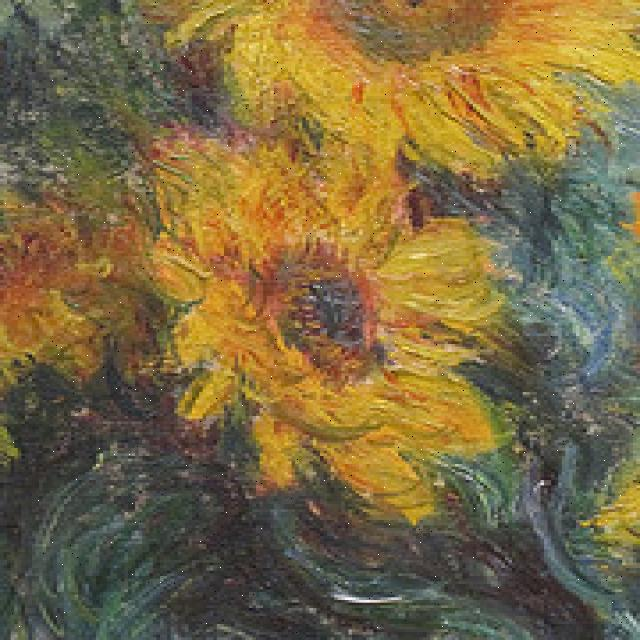Unbloomed: (132, 117, 522, 523)
